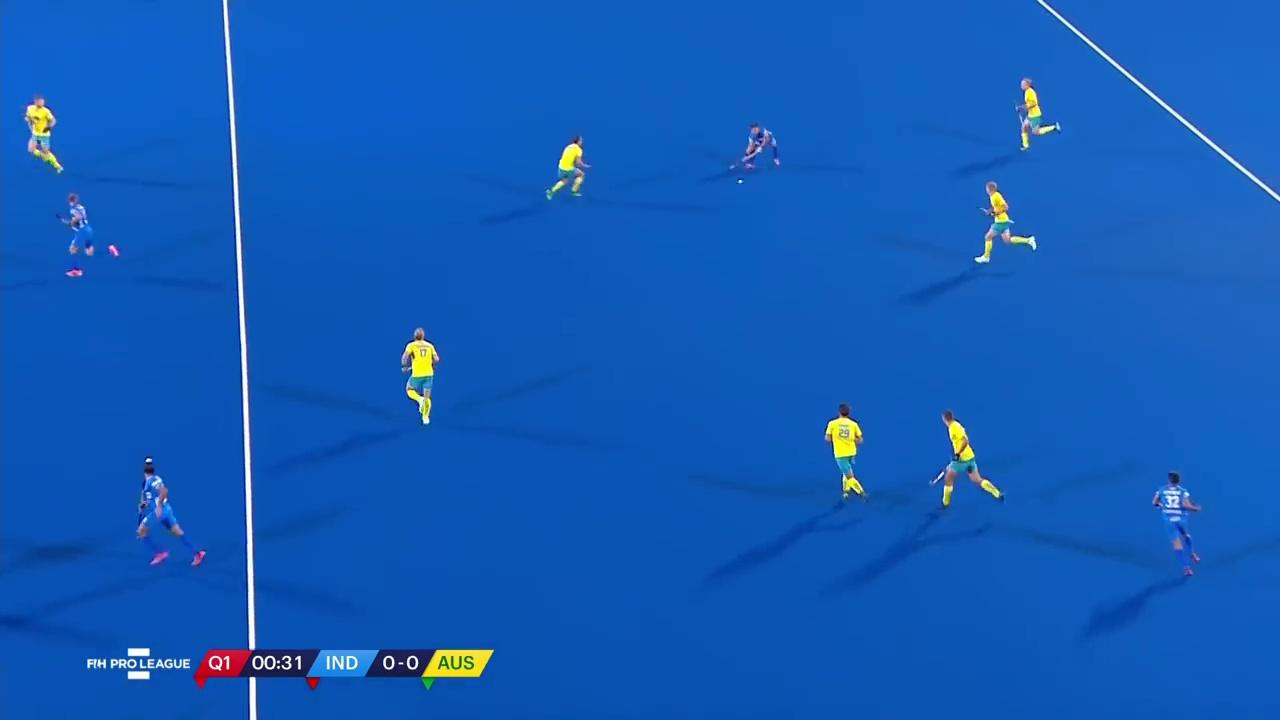ball: (733, 174, 746, 188)
